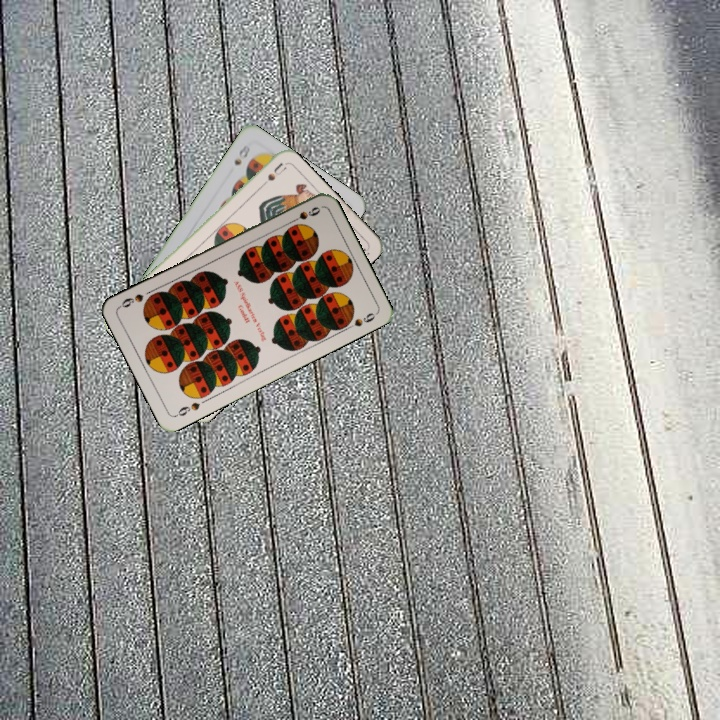S8: (230, 141, 253, 168)
S9: (285, 202, 323, 227), (171, 398, 202, 419)
SU: (254, 159, 288, 193)
